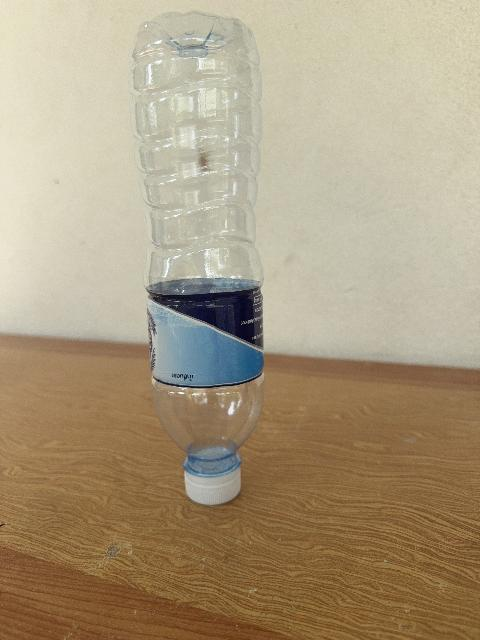bottle: (130, 12, 263, 504)
